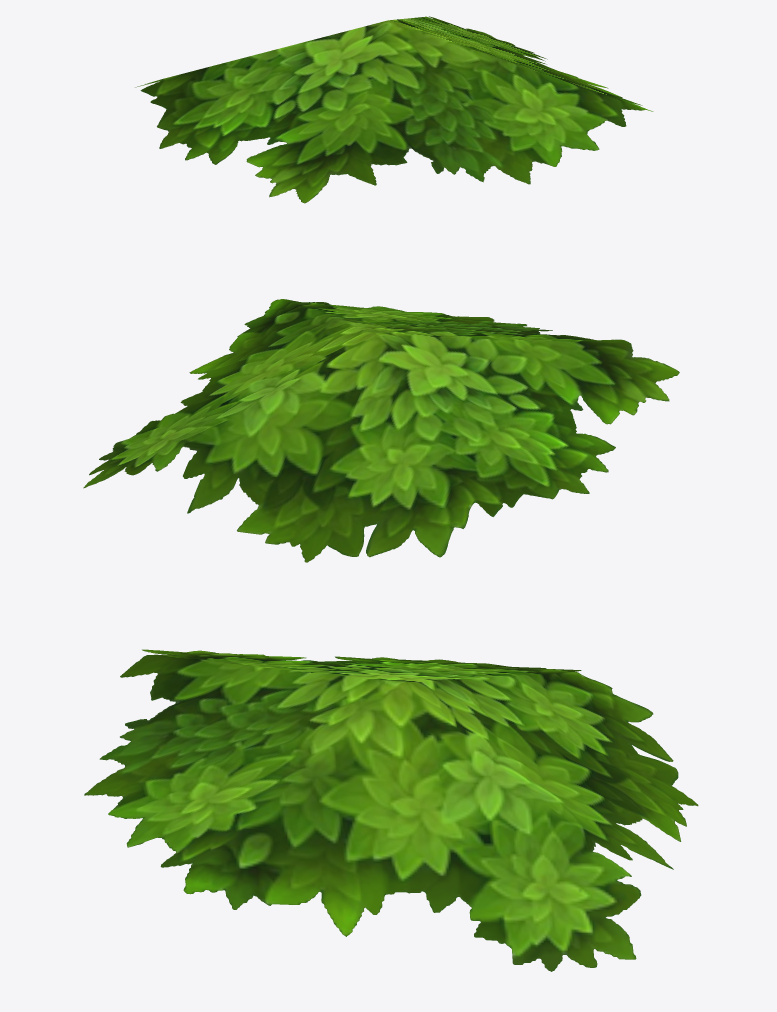
Rendered from 植被灌木02.FBX.
3 renders of one model, top to bottom at view 1: azimuth 30°, elevation 25°; view 2: azimuth 150°, elevation 25°; view 3: azimuth 270°, elevation 25°, orthographic. The views are drawn at different scales.
Visible parts, largest first — view 1: 植被灌木02; view 2: 植被灌木02; view 3: 植被灌木02.
Part boxes in pixels (x1=…): 植被灌木02: x1=135, y1=16, x2=653, y2=203; 植被灌木02: x1=83, y1=299, x2=679, y2=562; 植被灌木02: x1=84, y1=649, x2=698, y2=971.
Size of the model in its own units: 104 by 27.99 by 101.
